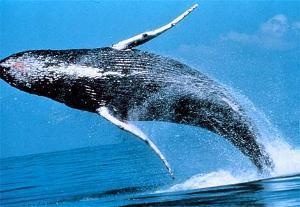fish: (1, 5, 295, 173)
